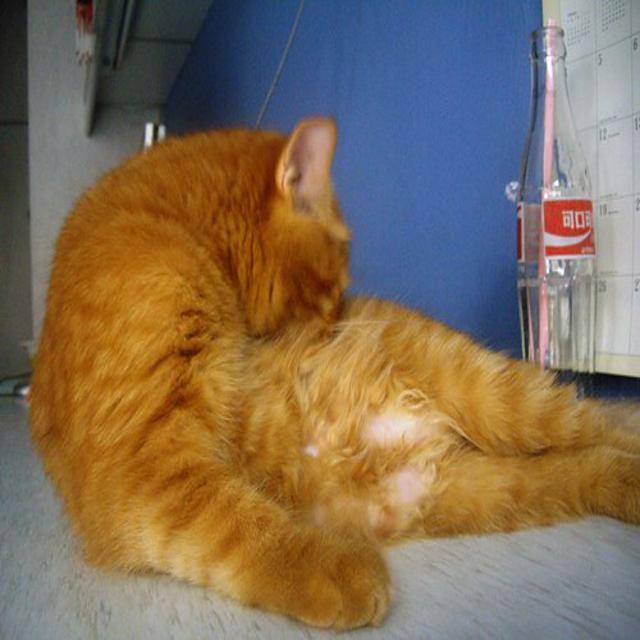hairloss: (372, 410, 438, 523)
